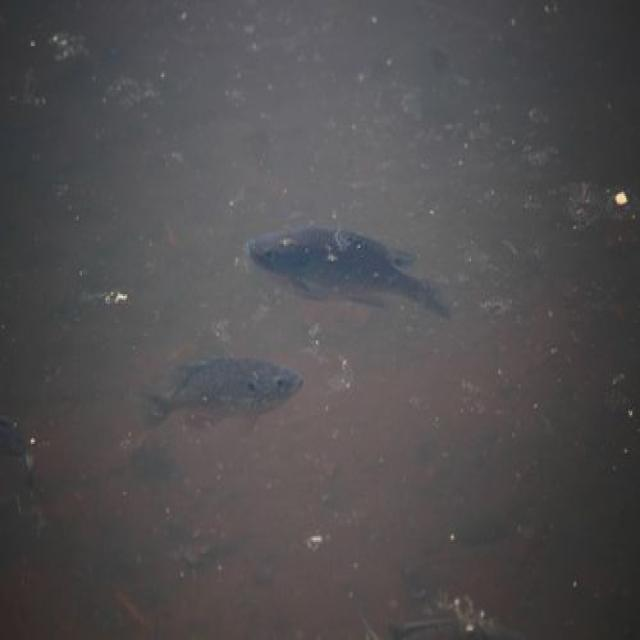Gunes Levregi: (247, 222, 461, 338)
